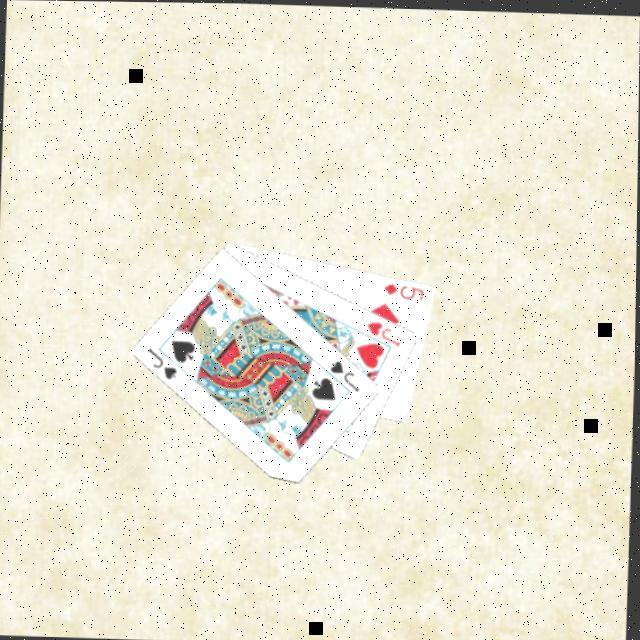5D: (380, 276, 426, 300)
JH: (362, 314, 402, 346)
JS: (324, 353, 362, 392), (142, 342, 180, 381)
